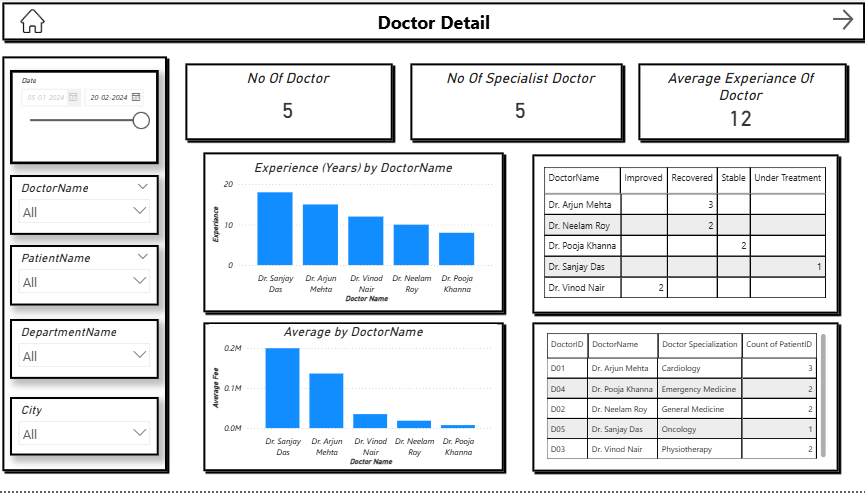

What the dashboard file says about the page in this screenshot:
{"tool":"powerbi","page":{"name":"Doctor Details","canvas":[1291,731],"ordinal":0},"visuals":[{"type":"shape","box":[0,0,1291.8,66.6],"z":0},{"type":"image","box":[0,10.1,100.8,45.4],"z":1000},{"type":"shape","box":[0,80.5,254.6,626.3],"z":2000},{"type":"slicer","fields":{"Values":["PatientVisit.DoctorName"]},"box":[16.5,261.2,220.7,88.6],"z":3000},{"type":"slicer","fields":{"Values":["PatientVisit.PatientName"]},"box":[16.5,364.8,220.7,90.1],"z":4000},{"type":"slicer","fields":{"Values":["PatientVisit.DepartmentName"]},"box":[16.5,475.9,220.7,88.6],"z":5000},{"type":"slicer","fields":{"Values":["PatientVisit.City"]},"box":[16.5,591.5,220.7,87.1],"z":6000},{"type":"shape","box":[272.3,90.3,318.1,124.3],"z":7000},{"type":"advanceCardE03760C5AB684758B56AA29F9E6C257B","title":"No Of Doctor","fields":{"mainMeasure":["Count(PatientVisit.DoctorID)"]},"box":[289.7,105.5,277.8,95.1],"z":8000},{"type":"shape","box":[606.7,90.3,325.5,124.3],"z":9000},{"type":"advanceCardE03760C5AB684758B56AA29F9E6C257B","title":"No Of Specialist Doctor","fields":{"mainMeasure":["Count(PatientVisit.Doctor Specialization)"]},"box":[646.6,105.1,256,94.7],"z":10000},{"type":"shape","box":[945.5,90.3,319.6,124.3],"z":11000},{"type":"advanceCardE03760C5AB684758B56AA29F9E6C257B","title":"Average Experiance Of Doctor","fields":{"mainMeasure":["Avg(PatientVisit.Experience (Years))"]},"box":[970.7,105.1,261.9,94.7],"z":12000},{"type":"shape","box":[298.7,222.2,456.4,247.7],"z":13000},{"type":"columnChart","title":"Experience (Years) by DoctorName","fields":{"Category":["PatientVisit.DoctorName"],"Y":["Avg(PatientVisit.Experience (Years))"]},"box":[312.2,238.7,427.8,216.2],"z":14000},{"type":"shape","box":[787.5,225.8,465,246.6],"z":15000},{"type":"pivotTable","fields":{"Rows":["PatientVisit.DoctorName"],"Columns":["PatientVisit.Outcome"],"Values":["Count(PatientVisit.PatientID)"]},"box":[805.3,245.2,429.4,209.5],"z":16000},{"type":"shape","box":[298.7,475.9,456.4,231.2],"z":17000},{"type":"columnChart","title":"Average by DoctorName","fields":{"Category":["PatientVisit.DoctorName"],"Y":["Avg(PatientVisit.TotalCost)"]},"box":[312.2,483.4,427.8,214.7],"z":18000},{"type":"shape","box":[787.5,475.4,465,231.8],"z":19000},{"type":"tableEx","fields":{"Values":["PatientVisit.DoctorID","PatientVisit.DoctorName","PatientVisit.Doctor Specialization","PatientVisit.PatientID"]},"box":[808.3,491.8,426.4,196.1],"z":20000},{"type":"slicer","fields":{"Values":["PatientVisit.AdmissionDate"]},"box":[16.5,105.1,220.7,139.6],"z":23000},{"type":"actionButton","box":[1232.5,10.5,57,40.5],"z":24000}]}

Visuals, with their boxes in screenshot pixels (x1, y1, x2, y2), scaled from the page's 1291x731 canvas onto the 865x493 screenshot:
shape: l=0, t=0, r=864, b=45
image: l=0, t=7, r=68, b=37
shape: l=0, t=54, r=171, b=477
slicer - PatientVisit.DoctorName: l=11, t=176, r=159, b=236
slicer - PatientVisit.PatientName: l=11, t=246, r=159, b=307
slicer - PatientVisit.DepartmentName: l=11, t=321, r=159, b=381
slicer - PatientVisit.City: l=11, t=399, r=159, b=458
shape: l=182, t=61, r=396, b=145
"No Of Doctor" advanceCardE03760C5AB684758B56AA29F9E6C257B: l=194, t=71, r=380, b=135
shape: l=407, t=61, r=625, b=145
"No Of Specialist Doctor" advanceCardE03760C5AB684758B56AA29F9E6C257B: l=433, t=71, r=605, b=135
shape: l=634, t=61, r=848, b=145
"Average Experiance Of Doctor" advanceCardE03760C5AB684758B56AA29F9E6C257B: l=650, t=71, r=826, b=135
shape: l=200, t=150, r=506, b=317
"Experience (Years) by DoctorName" columnChart: l=209, t=161, r=496, b=307
shape: l=528, t=152, r=839, b=319
pivotTable - PatientVisit.DoctorName x PatientVisit.Outcome: l=540, t=165, r=827, b=307
shape: l=200, t=321, r=506, b=477
"Average by DoctorName" columnChart: l=209, t=326, r=496, b=471
shape: l=528, t=321, r=839, b=477
tableEx - PatientVisit.DoctorID x PatientVisit.DoctorName: l=542, t=332, r=827, b=464
slicer - PatientVisit.AdmissionDate: l=11, t=71, r=159, b=165
actionButton: l=826, t=7, r=864, b=34
